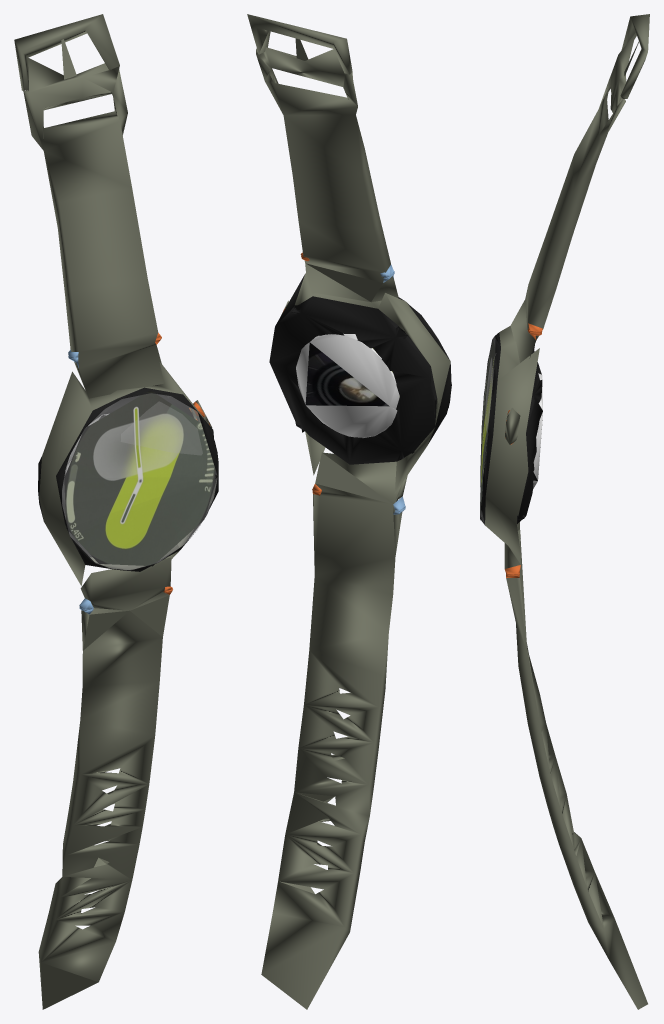
File: galaxy_watch_lo.glb
3 views of the same model, side by side, from view 1: azimuth 30°, elevation 25°; view 2: azimuth 150°, elevation 25°; view 3: azimuth 270°, elevation 25° (orthographic).
Parts seen in each view (by area): view 1: Object_5; view 2: Object_5; view 3: Object_5.
Part boxes in pixels (box(x1,y1,x2,y2)): Object_5: box(14, 14, 218, 1009); Object_5: box(247, 14, 451, 1009); Object_5: box(480, 14, 649, 1009).
Bounding box in the file's own units: 0.0687 × 0.3831 × 0.0601.
9 materials, 2 textured.
